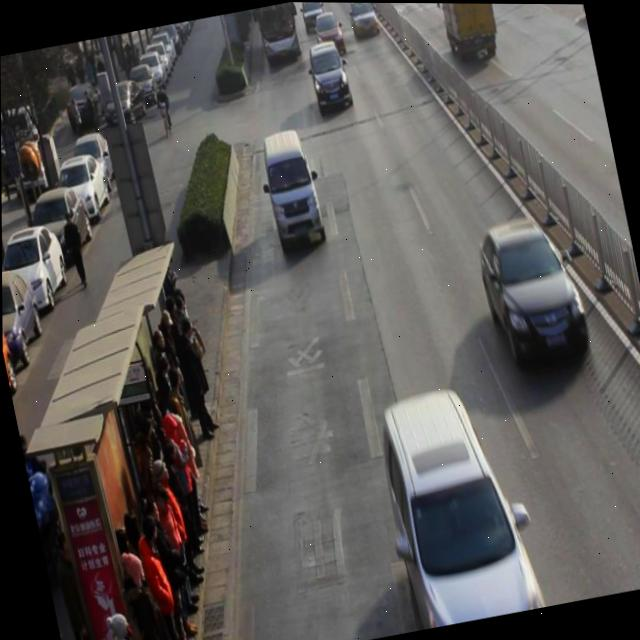bus: (435, 3, 503, 68)
car: (368, 379, 545, 632), (474, 212, 596, 376), (306, 38, 356, 115), (313, 8, 348, 60), (347, 2, 381, 42), (299, 2, 328, 36)
truck: (259, 127, 329, 256)
van: (254, 1, 299, 59)
